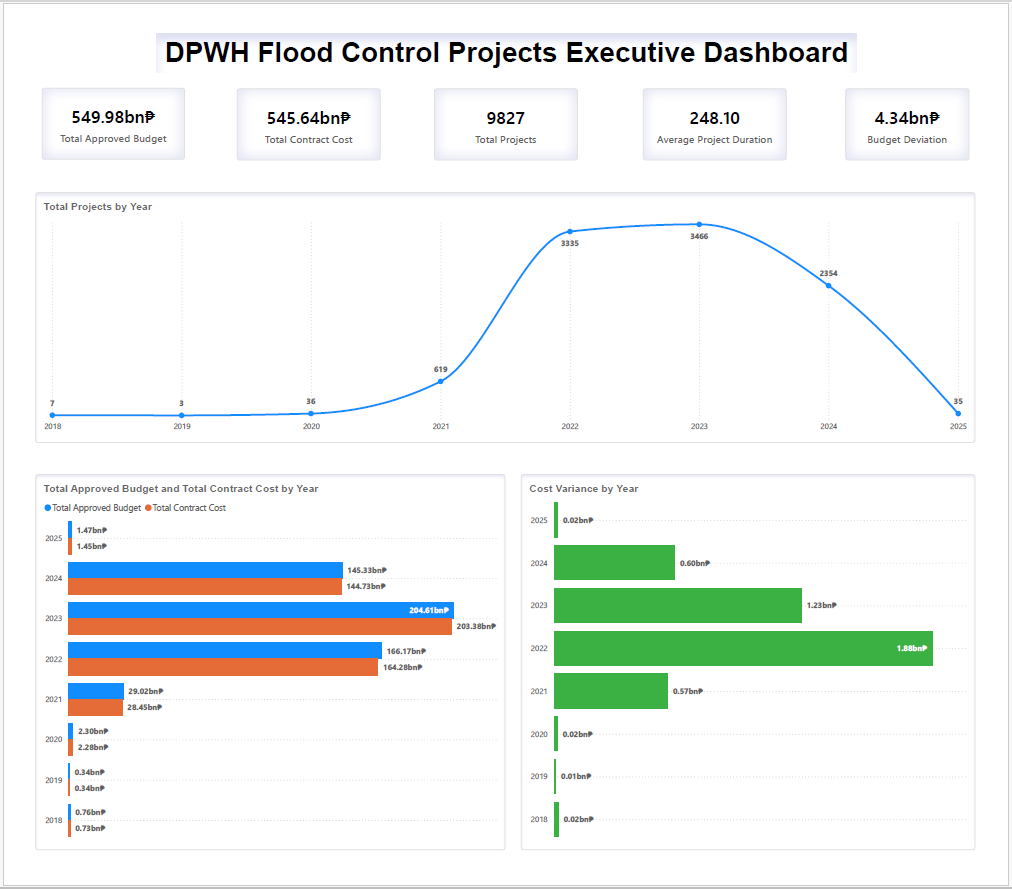

Layout of this report page (visuals, bound fields, positions):
{"tool":"powerbi","page":{"name":"Executive Summary","canvas":[1490,1300],"ordinal":0},"visuals":[{"type":"card","fields":{"Values":["fact_project.Total Approved Budget"]},"box":[34,103.8,218.9,110],"z":0},{"type":"card","fields":{"Values":["fact_project.Total Contract Cost"]},"box":[332.5,105,220,110],"z":1000},{"type":"card","fields":{"Values":["Calculations.Total Projects"]},"box":[635,105,220,110],"z":2000},{"type":"textbox","box":[210,20,1072,60],"z":4000},{"type":"card","fields":{"Values":["Calculations.Average Project Duration"]},"box":[955,105,220,110],"z":5000},{"type":"lineChart","fields":{"Category":["Dim_Date_Funding.Full_Date.Variation.Date Hierarchy.Year","Dim_Date_Funding.Full_Date.Variation.Date Hierarchy.Quarter","Dim_Date_Funding.Full_Date.Variation.Date Hierarchy.Month","Dim_Date_Funding.Full_Date.Variation.Date Hierarchy.Day"],"Y":["Calculations.Total Projects"]},"box":[24,264,1440,384],"z":8000},{"type":"clusteredBarChart","fields":{"Category":["Dim_Date_Funding.Full_Date.Variation.Date Hierarchy.Year"],"Y":["Calculations.Total Approved Budget","Calculations.Total Contract Cost"]},"box":[24,696,720,576],"z":9000},{"type":"card","fields":{"Values":["Calculations.Cost Variance (Actual vs Budget)"]},"box":[1265,105,190,110],"z":11000},{"type":"bookmarkNavigator","box":[1294,268,144,46],"z":19000},{"type":"bookmarkNavigator","box":[1320,260,120,54],"z":20000},{"type":"barChart","fields":{"Category":["Dim_Date_Funding.Year"],"Y":["Calculations.Cost Variance"]},"box":[768,696,696,576],"z":20001}]}

Visuals, with their boxes in screenshot pixels (x1, y1, x2, y2), scaled from the page's 1490x1300 canvas onto the 1012x889 screenshot:
card - fact_project.Total Approved Budget: left=23, top=71, right=172, bottom=146
card - fact_project.Total Contract Cost: left=226, top=72, right=375, bottom=147
card - Calculations.Total Projects: left=431, top=72, right=581, bottom=147
textbox: left=143, top=14, right=871, bottom=55
card - Calculations.Average Project Duration: left=649, top=72, right=798, bottom=147
lineChart - Dim_Date_Funding.Full_Date.Variation.Date Hierarchy.Year x Dim_Date_Funding.Full_Date.Variation.Date Hierarchy.Quarter: left=16, top=181, right=994, bottom=443
clusteredBarChart - Dim_Date_Funding.Full_Date.Variation.Date Hierarchy.Year x Calculations.Total Approved Budget: left=16, top=476, right=505, bottom=870
card - Calculations.Cost Variance (Actual vs Budget): left=859, top=72, right=988, bottom=147
bookmarkNavigator: left=879, top=183, right=977, bottom=215
bookmarkNavigator: left=897, top=178, right=978, bottom=215
barChart - Dim_Date_Funding.Year x Calculations.Cost Variance: left=522, top=476, right=994, bottom=870
